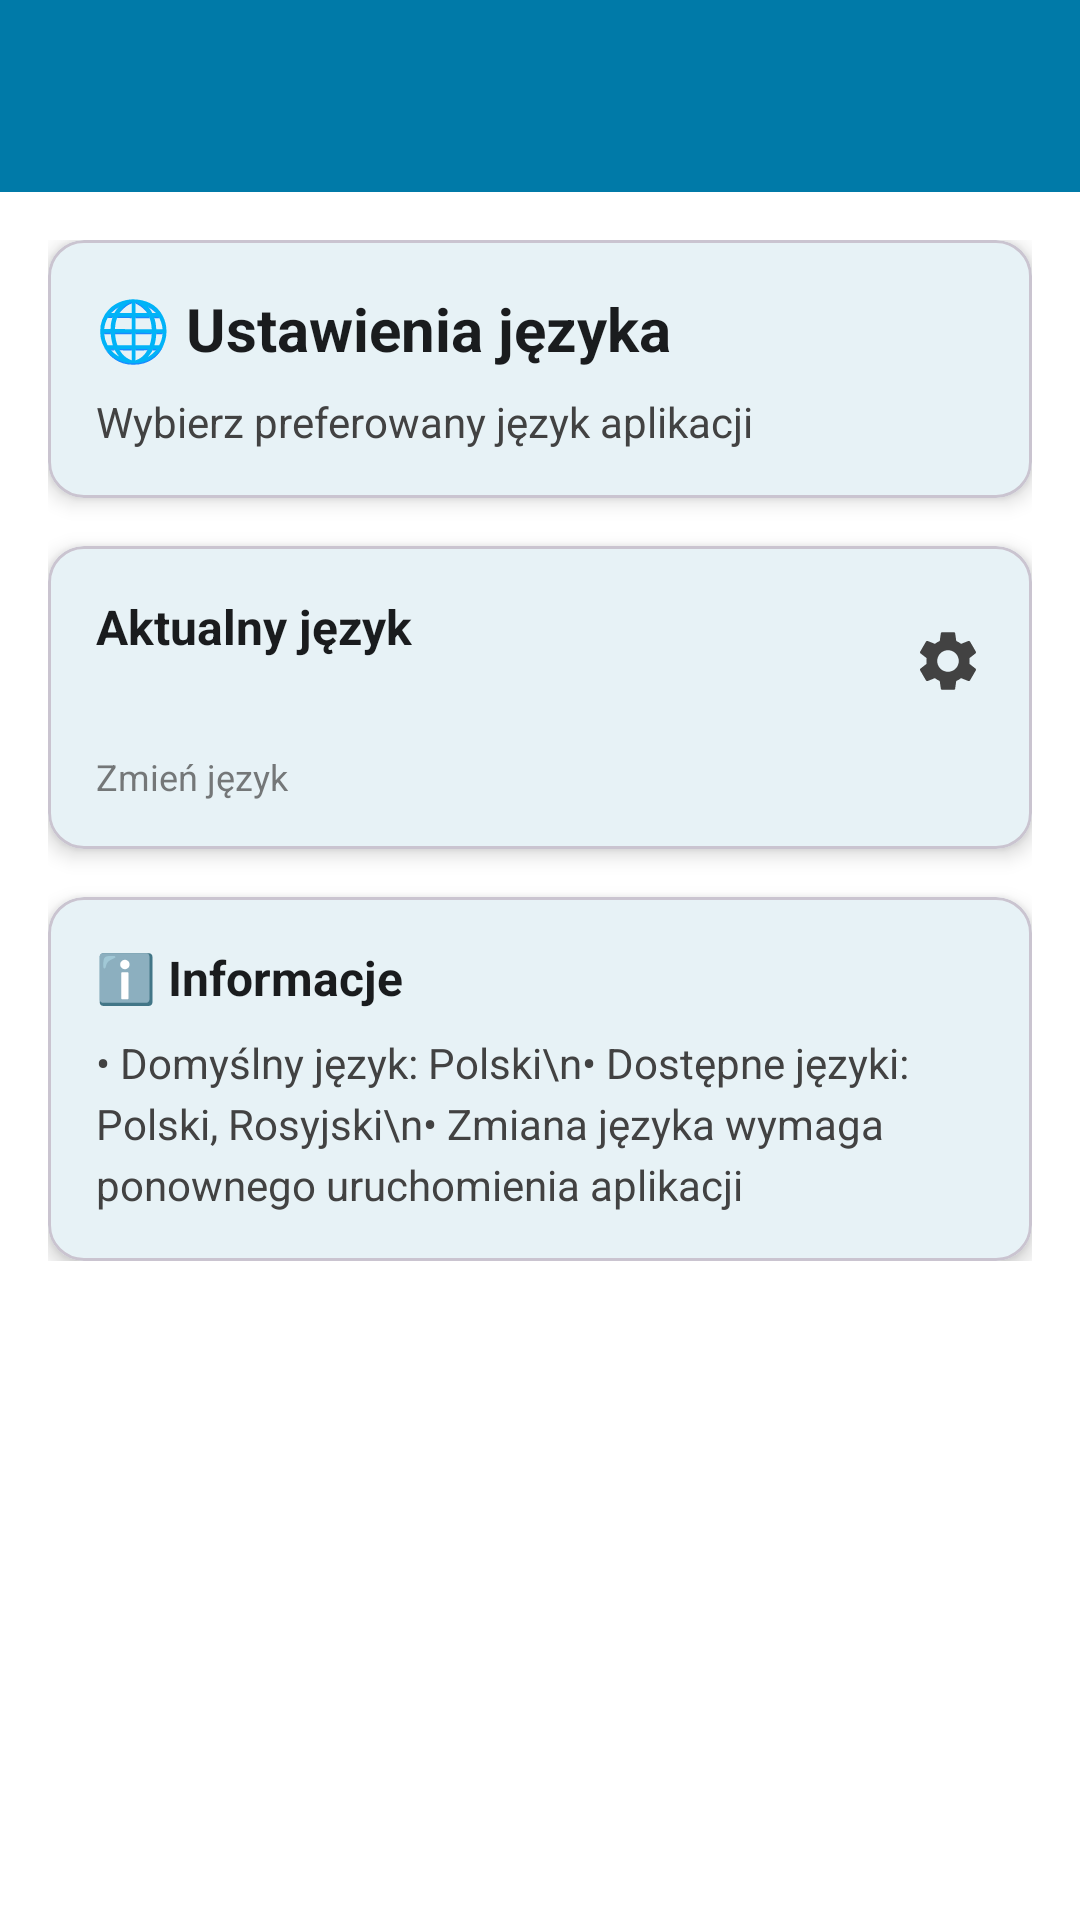

Screen size 1080 × 1920. Icon name, then its center in pixels as point (x, y):
settings: point (948, 661)
